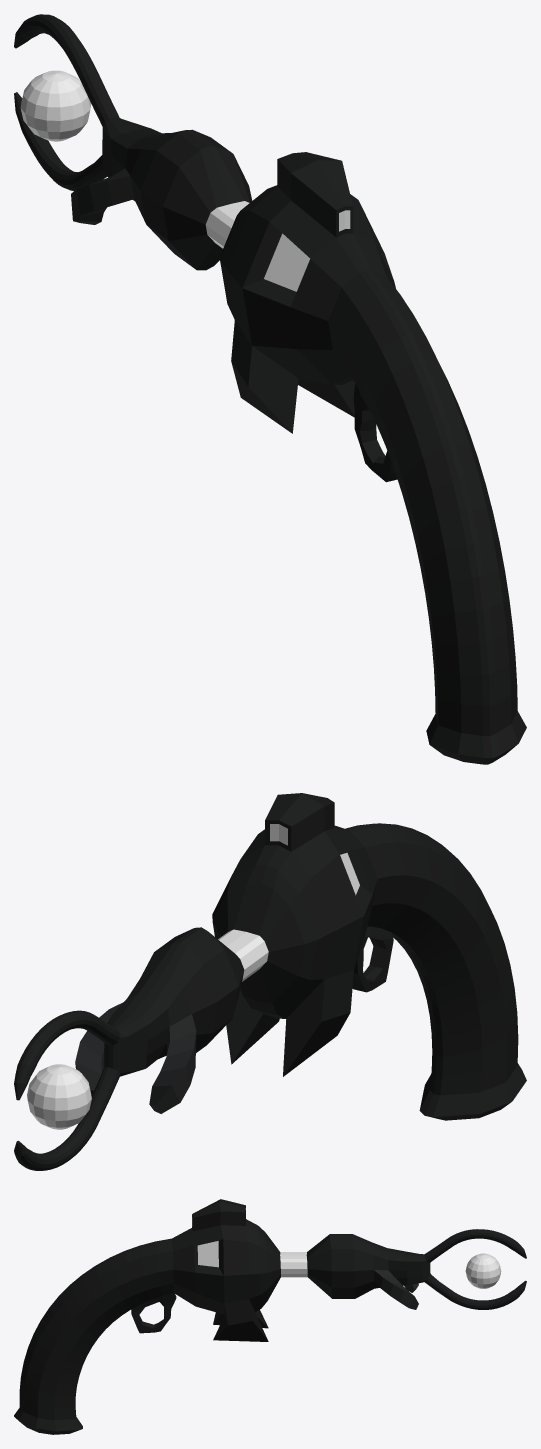
The picture shows the model from 3 angles, top to bottom: view 1: azimuth 30°, elevation 25°; view 2: azimuth 150°, elevation 25°; view 3: azimuth 270°, elevation 25°; orthographic projection. The views are drawn at different scales.
Visible parts, largest first — view 1: P243_mk3; view 2: P243_mk3; view 3: P243_mk3.
Boxes of the visible parts, x1,y1,x2,y2 form: P243_mk3: [14, 14, 526, 764]; P243_mk3: [14, 793, 526, 1170]; P243_mk3: [14, 1199, 526, 1434].
Size of the model in its own units: 8.22 by 51.15 by 25.54.
